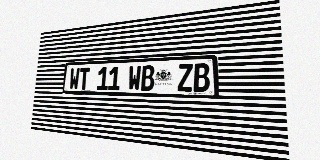1: (108, 66, 120, 90), (97, 67, 109, 90)
B: (193, 63, 210, 92), (141, 65, 155, 91)
T: (79, 67, 90, 90)
W: (128, 66, 141, 91), (69, 68, 80, 90)
Z: (177, 64, 193, 92)
